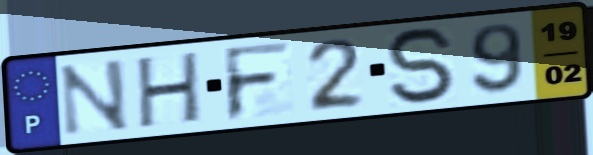2: (303, 37, 367, 114)
9: (468, 20, 527, 98)
F: (220, 38, 296, 124)
H: (135, 48, 203, 132)
N: (56, 56, 133, 139)
S: (382, 25, 462, 107)
